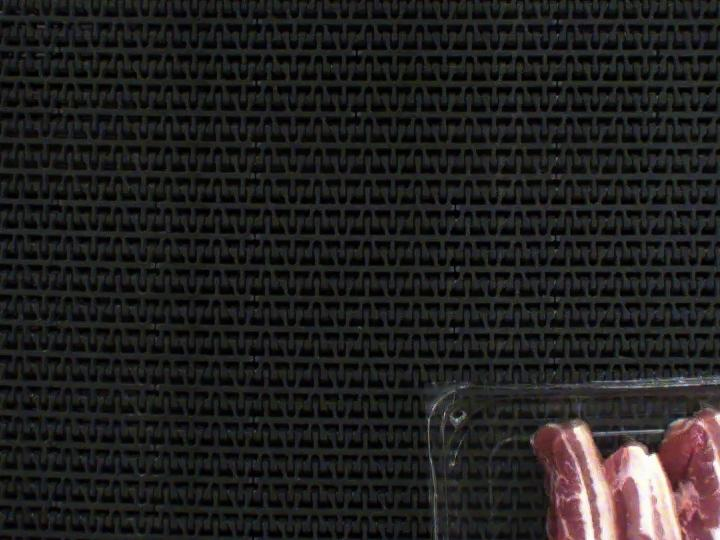packaging-error: (558, 390, 593, 426), (684, 383, 720, 417)
